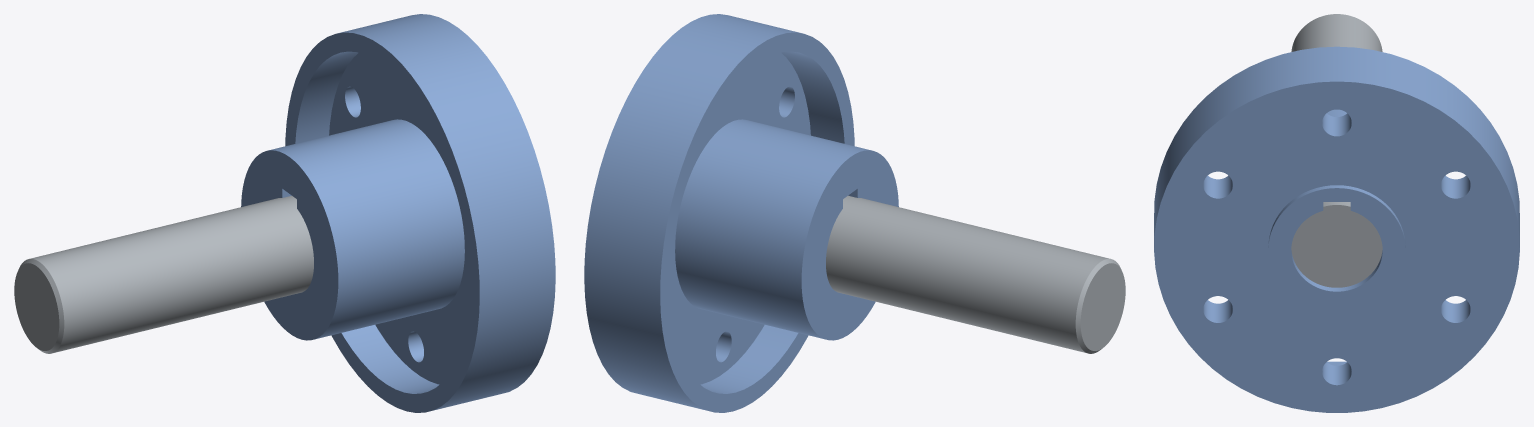
File: step_15.glb
3 renders of one model, left to right at view 1: azimuth 30°, elevation 25°; view 2: azimuth 150°, elevation 25°; view 3: azimuth 270°, elevation 25°, orthographic. The views are drawn at different scales.
Visible parts, largest first — view 1: part__flange A (spigot), part__shaft A; view 2: part__flange A (spigot), part__shaft A; view 3: part__flange A (spigot), part__shaft A.
Part boxes in pixels (left/top/right/bottom): part__flange A (spigot): left=241, top=14, right=555, bottom=412; part__shaft A: left=14, top=195, right=313, bottom=353; part__flange A (spigot): left=584, top=14, right=898, bottom=412; part__shaft A: left=826, top=195, right=1125, bottom=353; part__flange A (spigot): left=1154, top=46, right=1519, bottom=412; part__shaft A: left=1291, top=14, right=1382, bottom=287.
Bounding box in the file's own units: 203 × 160 × 160.
